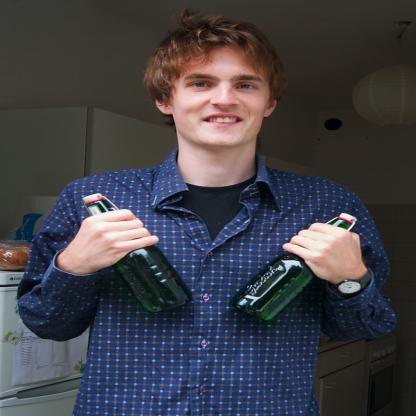drinking: (230, 214, 358, 321), (82, 194, 193, 314)
